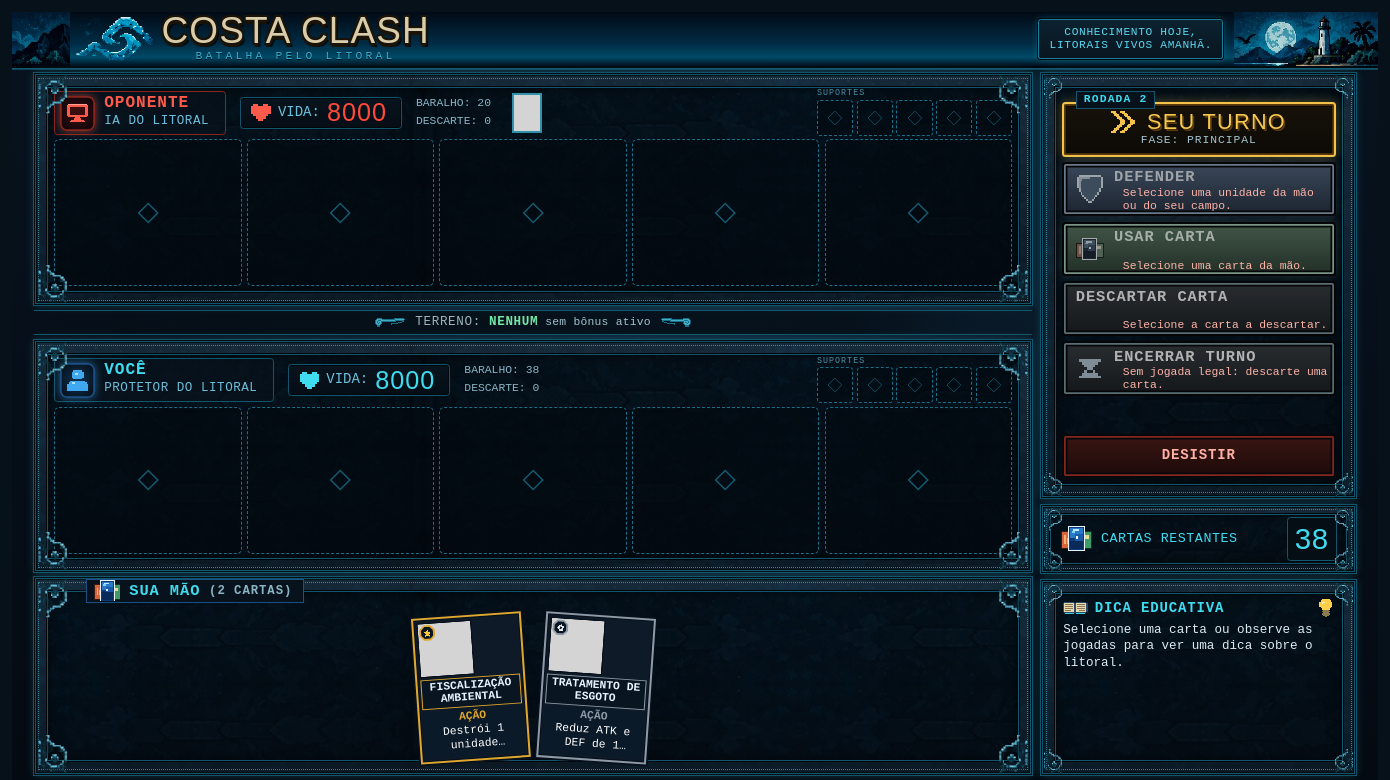
Partida: leitura do tabuleiro e jogadas › ação sem alvo válido fica desabilitada com o motivo; descarte forçado quando nada é jogável
What coordinates should you click on to do the following:
click the button with aria-label "Mão 1:"
I would click on:
 (471, 687)
Its box is [411,611,530,764].
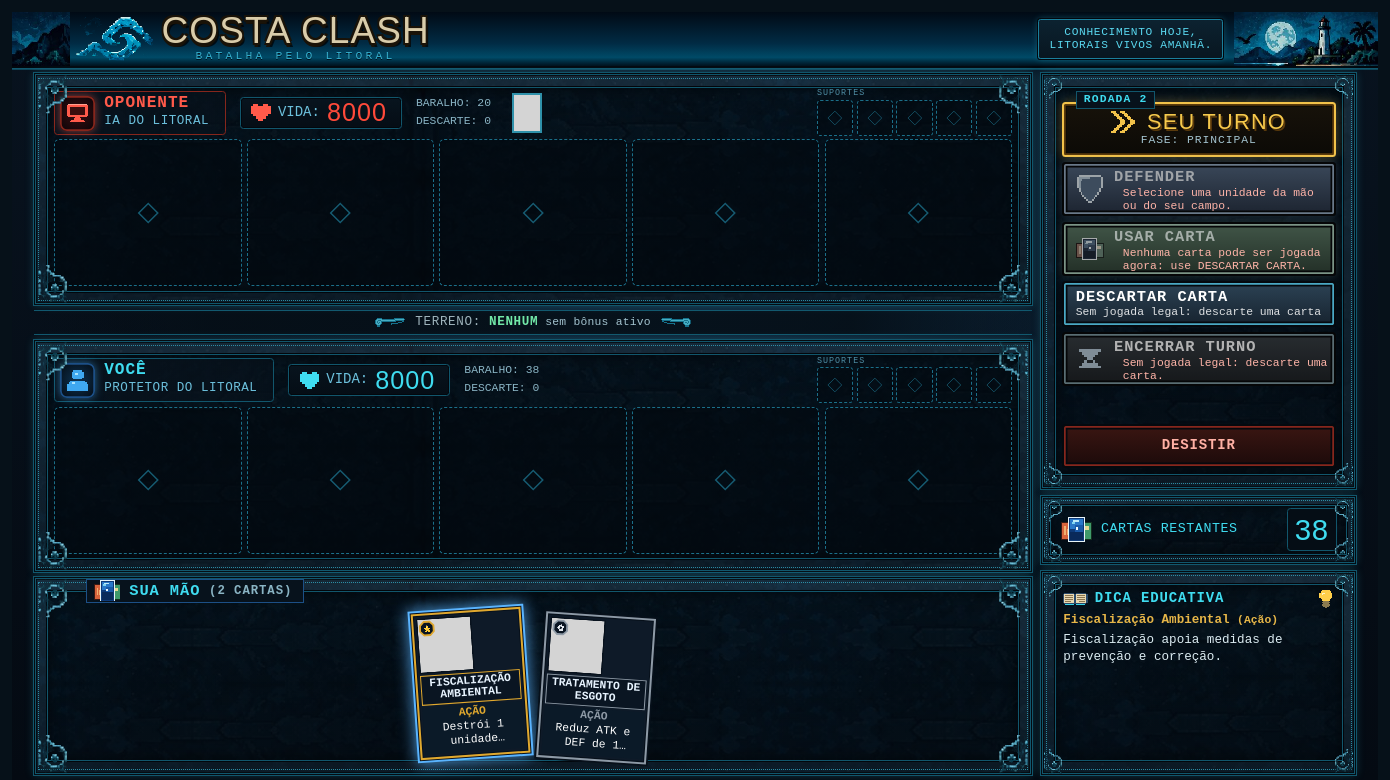
// sem jogada legal: botão DESCARTAR CARTA aparece e funciona
What coordinates should you click on to do the following:
click the button "Descartar carta Sem jogada legal: descarte uma carta"
I would click on:
 (1199, 304)
Its box is [1062,282,1336,327].
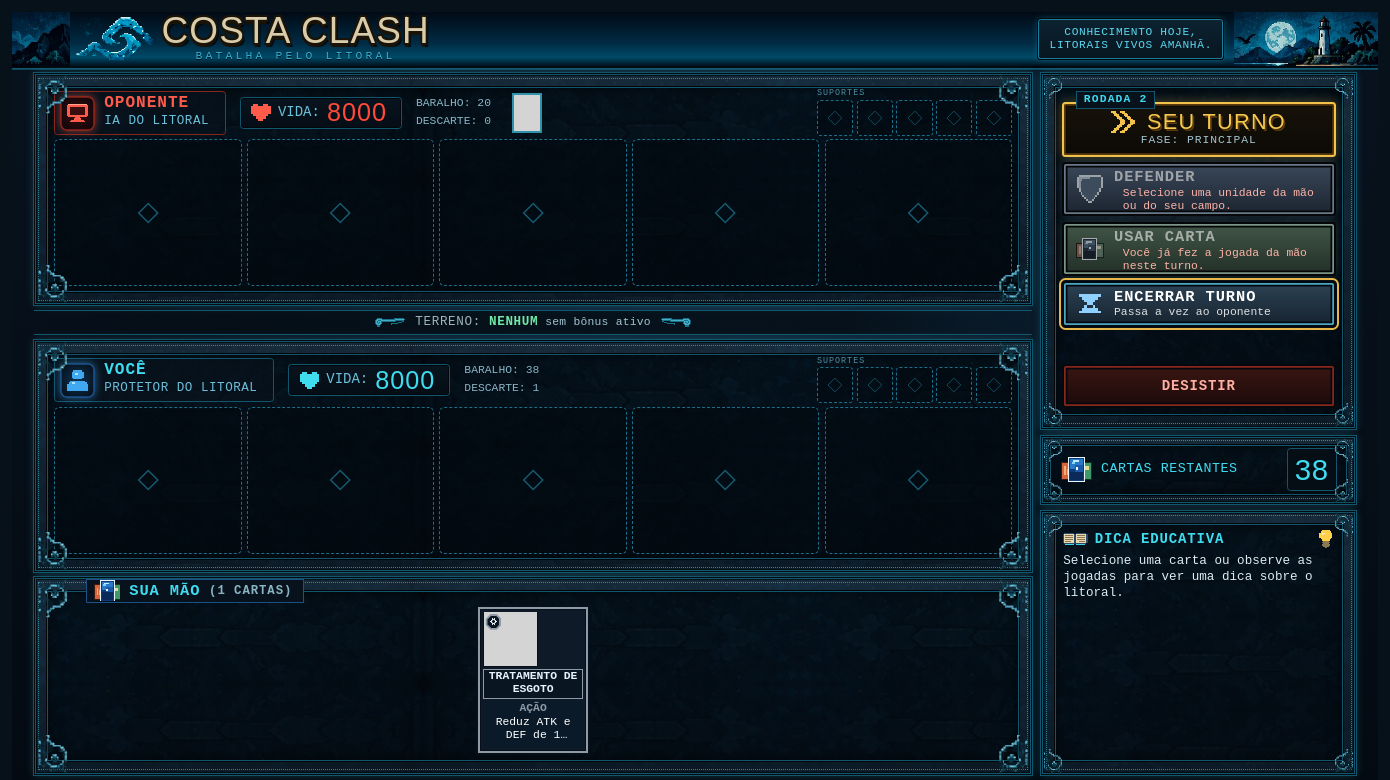
Expected: the number of buttons named "Mão 1: Tratamento de Esgoto, ação. Reduz ATK e DEF de 1 unid" is 1, [478,607,588,753]
